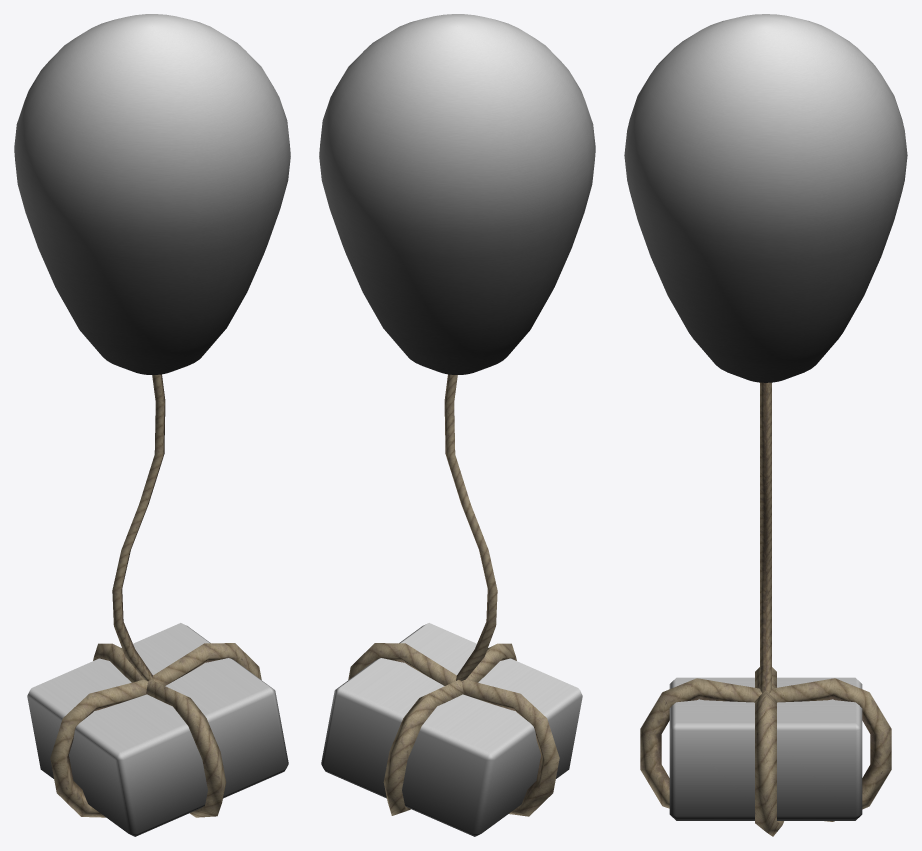
The model's file is balloon_02.gltf.
3 views of the same model, side by side, from view 1: azimuth 30°, elevation 25°; view 2: azimuth 150°, elevation 25°; view 3: azimuth 270°, elevation 25° (orthographic). The views are drawn at different scales.
Visible parts, largest first — view 1: balloon.002, package.002, rope.002; view 2: balloon.002, package.002, rope.002; view 3: balloon.002, package.002, rope.002.
Boxes of the visible parts, box(x1,y1,x2,y2) form: balloon.002: box(14, 14, 290, 374); package.002: box(27, 623, 288, 836); rope.002: box(50, 374, 261, 817); balloon.002: box(319, 14, 595, 374); package.002: box(321, 623, 582, 836); rope.002: box(348, 374, 559, 816); balloon.002: box(624, 14, 907, 382); package.002: box(669, 677, 862, 820); rope.002: box(640, 382, 891, 836).
Bounding box in the file's own units: 1.5 × 4.65 × 1.5.
Materials: 3 (3 with a texture image).
